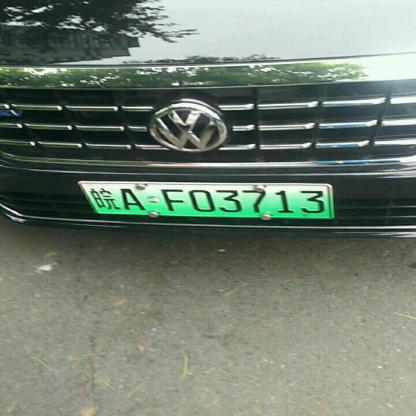lp: (80, 182, 332, 218)
